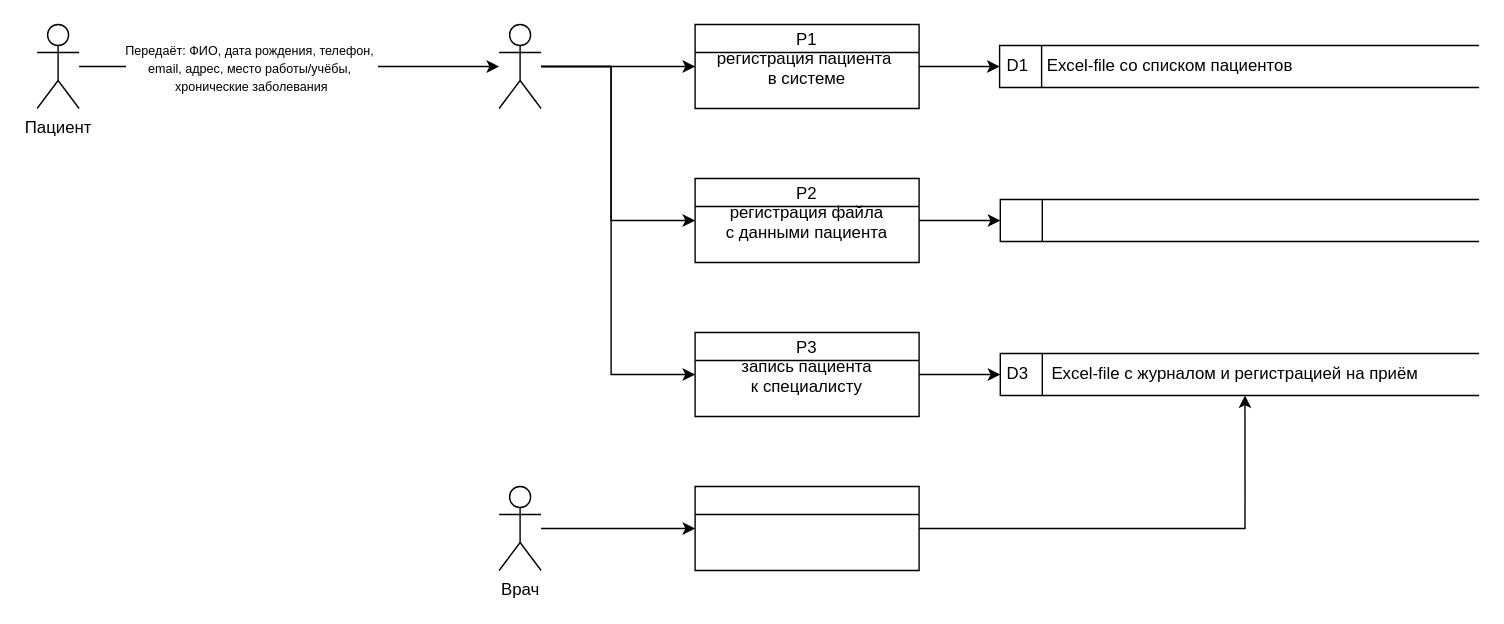
Some shapes in this 1504 by 624 pixel diagram are drawn without their labels. Here are the shapes that lost their labels. From the top down, the centre of each, then its label:
the point at 519,65: Администратор (ресепшен)
the point at 1239,219: D2 Data-file (Excel/PDF/PNG/etc.) с данными пациента
the point at 806,527: P4 просмотр и редактирование записей пациентов
